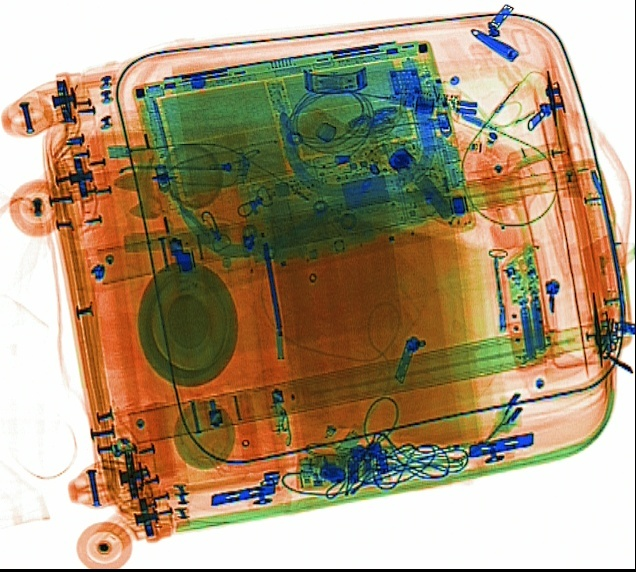powerbank: (498, 234, 555, 367)
